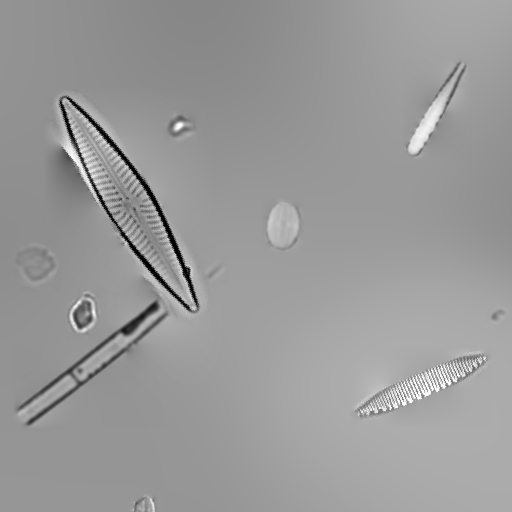ADSB: (128, 490, 160, 512)
APED: (258, 195, 308, 257)
AUGA: (6, 246, 236, 436)
MCIR: (397, 53, 477, 165)
NAMP: (345, 341, 497, 431)
NCTE: (31, 72, 229, 336)
